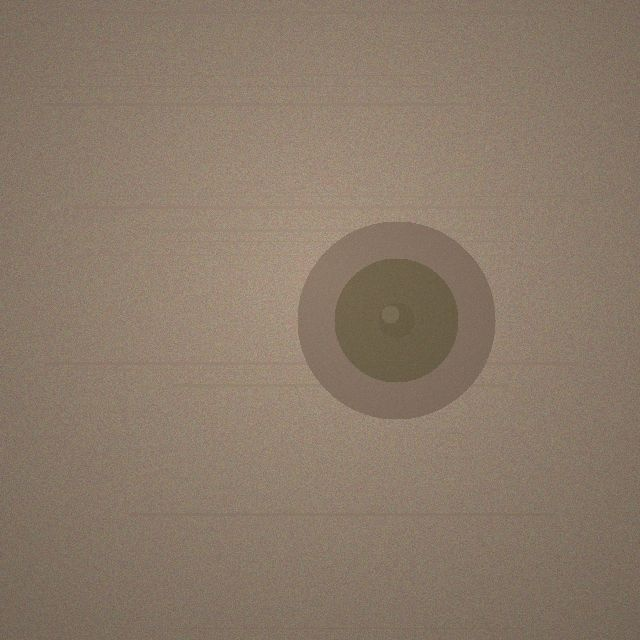good: (297, 221, 495, 419)
